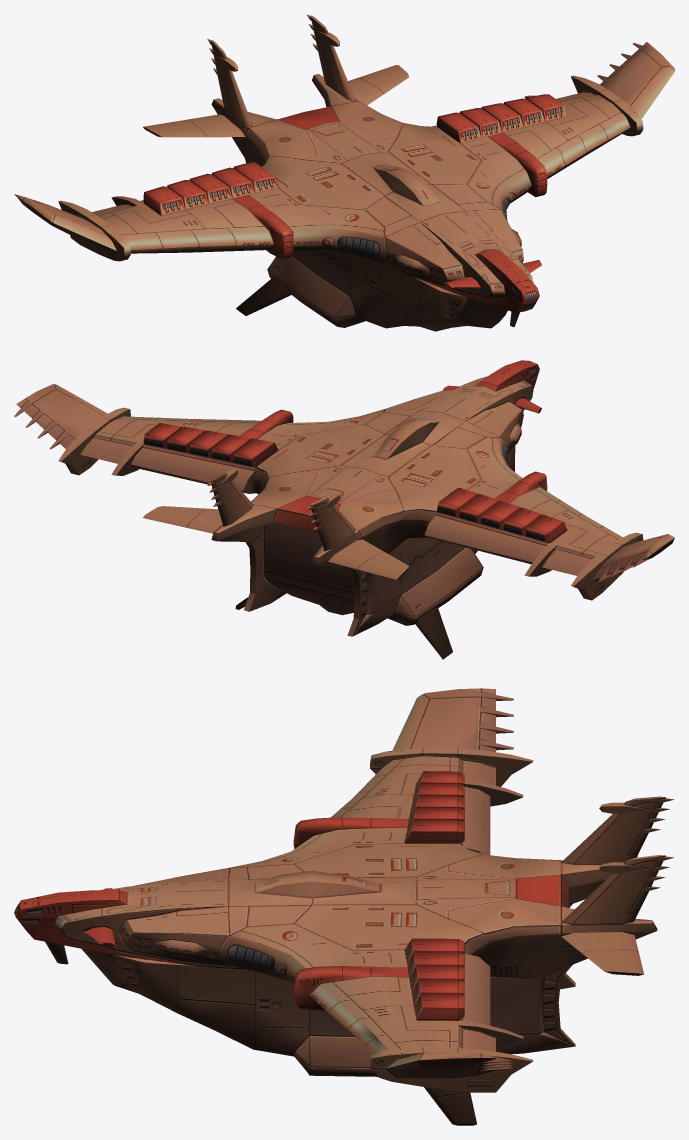
Rendered from Walking.fbx.
3 views of the same model, one above another, from view 1: azimuth 30°, elevation 25°; view 2: azimuth 150°, elevation 25°; view 3: azimuth 270°, elevation 25° (orthographic). The views are drawn at different scales.
Visible parts, largest first — view 1: A110_420_audhumla; view 2: A110_420_audhumla; view 3: A110_420_audhumla.
Boxes of the visible parts, x1,y1,x2,y2 form: A110_420_audhumla: [14, 14, 674, 331]; A110_420_audhumla: [14, 360, 674, 659]; A110_420_audhumla: [14, 688, 674, 1125].
Size of the model in its own units: 140 by 42.45 by 106.
Materials: 1 (1 with a texture image).
